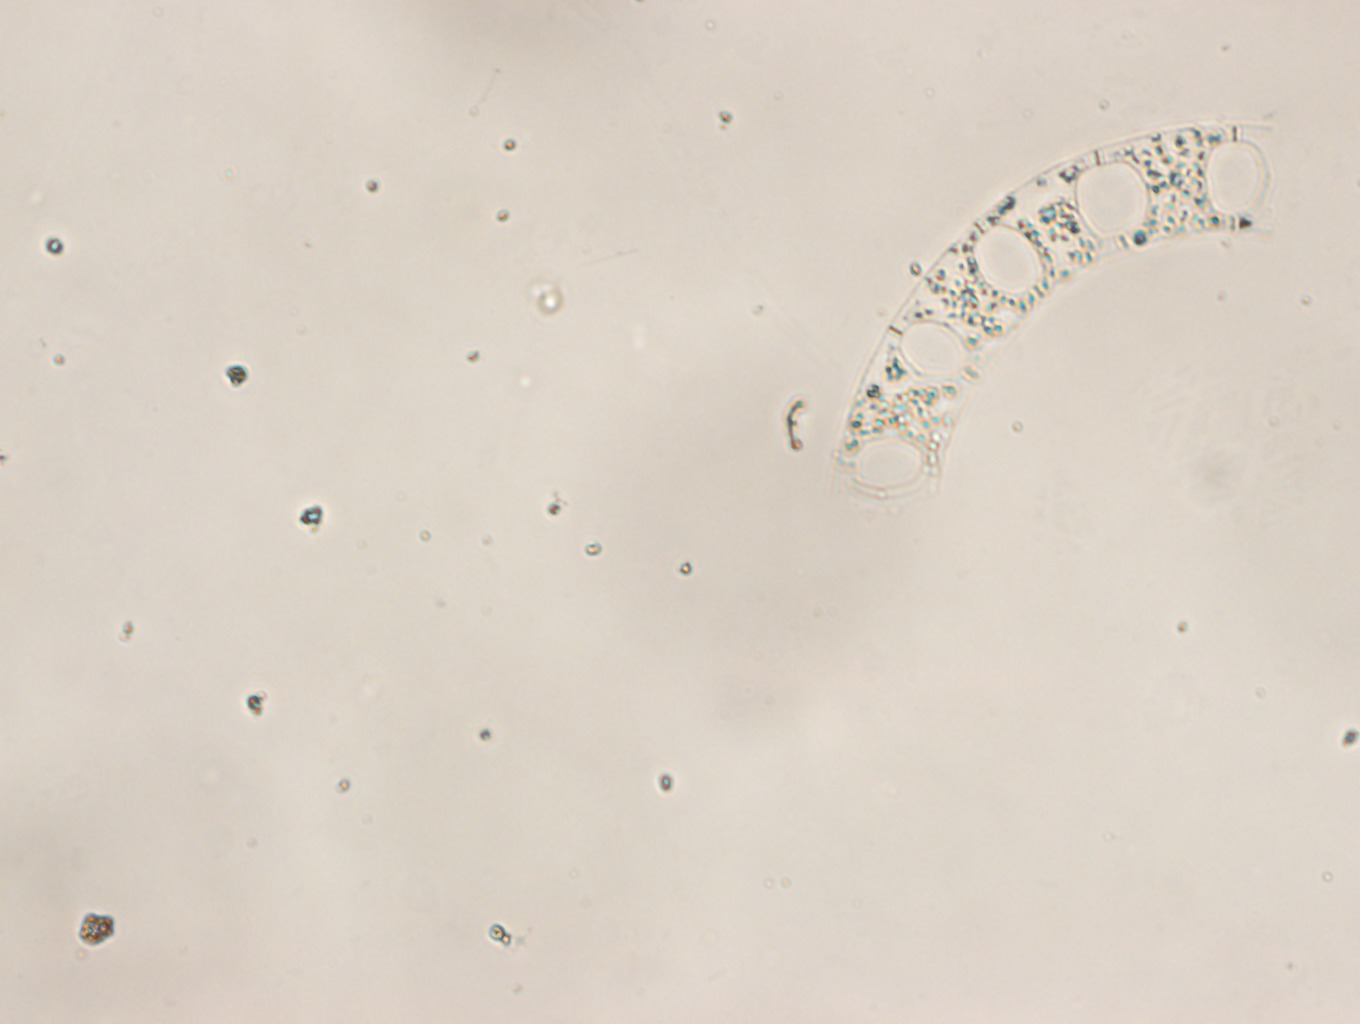eucampia: (829, 122, 1270, 503)
